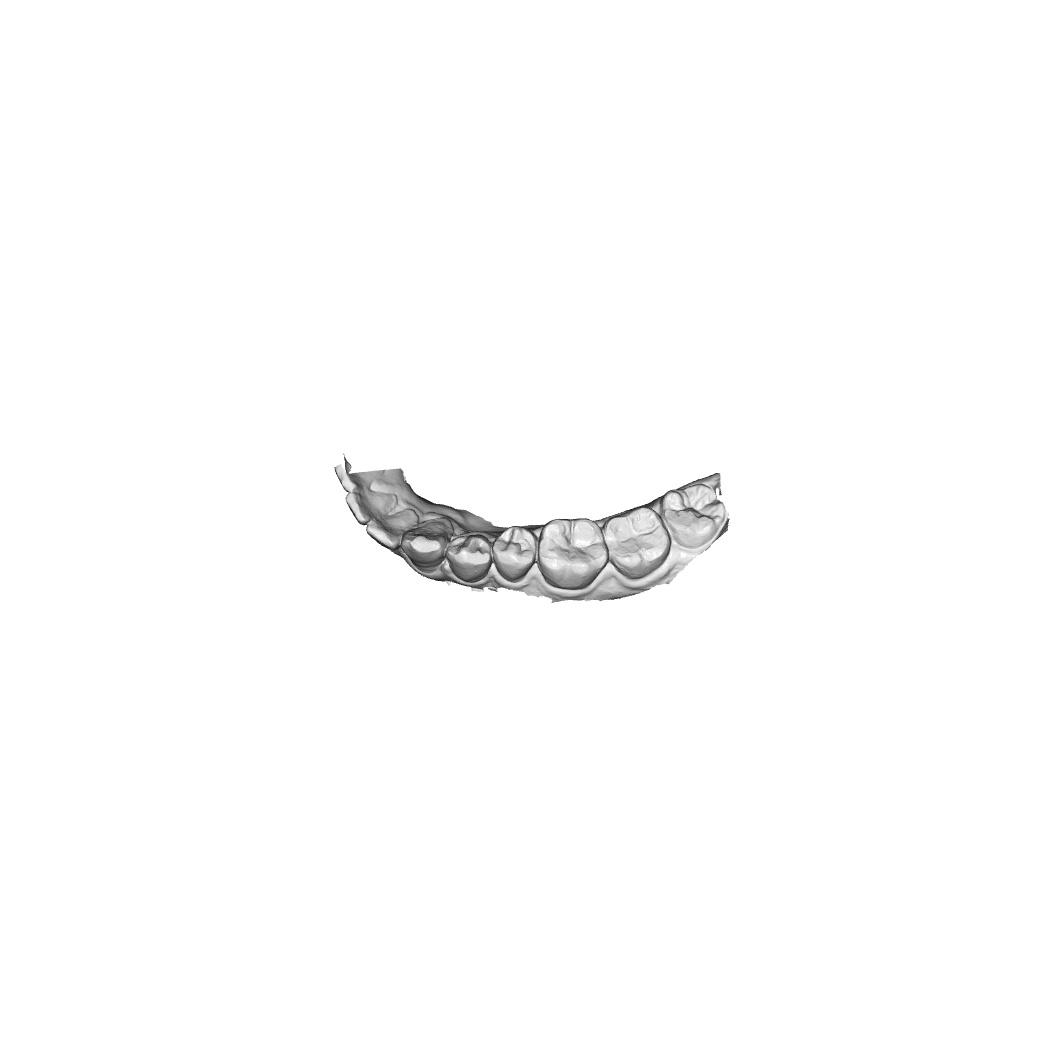canine: (400, 517, 454, 575)
incisor: (365, 507, 420, 552), (344, 490, 398, 526)
molar: (537, 517, 610, 590), (601, 505, 672, 579), (659, 483, 726, 550)
premolar: (491, 525, 538, 582), (445, 533, 493, 584)
